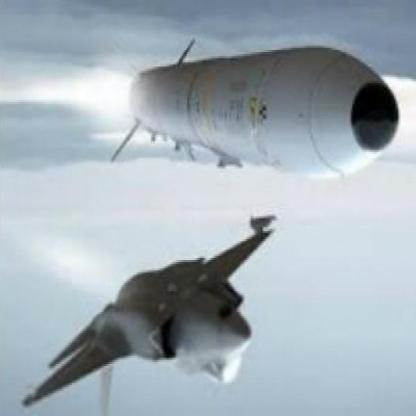MIL_TBM: (107, 46, 405, 180)
